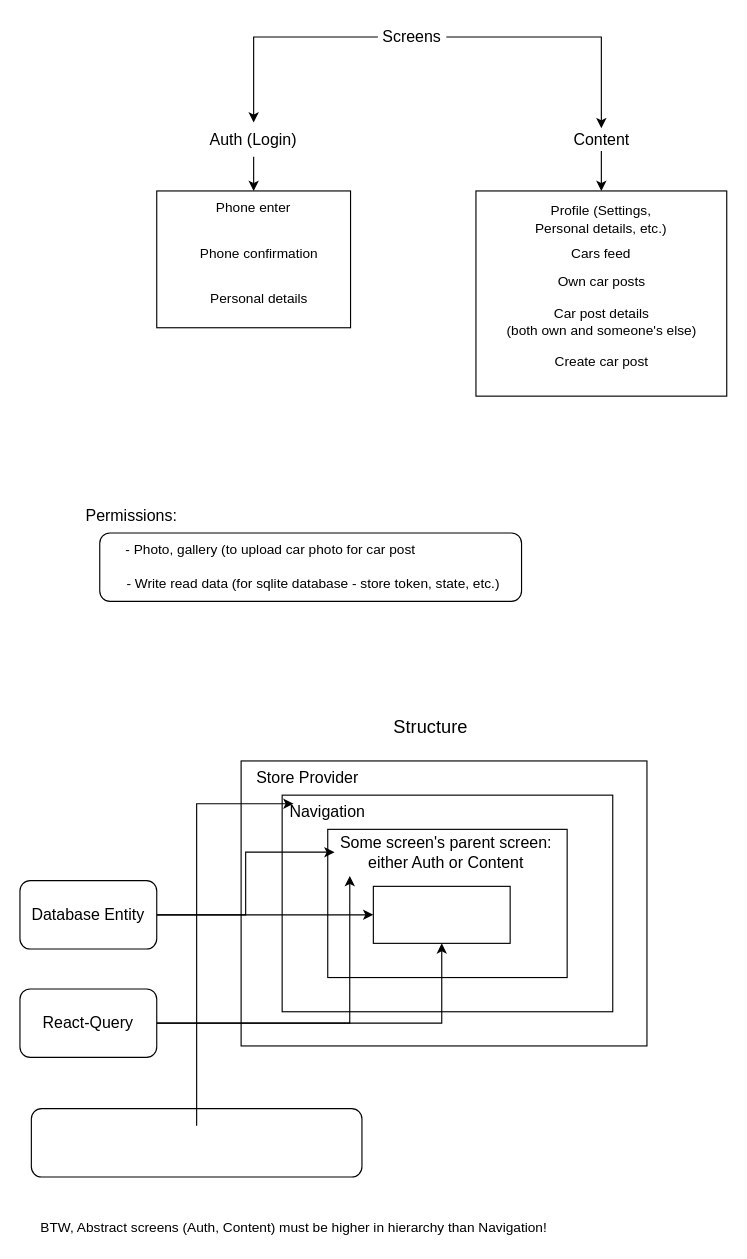
Some shapes in this 747 by 1259 pixel diagram are drawn without their labels. Here are the shapes that lost their labels. From the top down, the box of each, then its label:
(372, 885, 510, 943): Some screen
(30, 1108, 362, 1177): Two seperate navigations for Auth and Content
